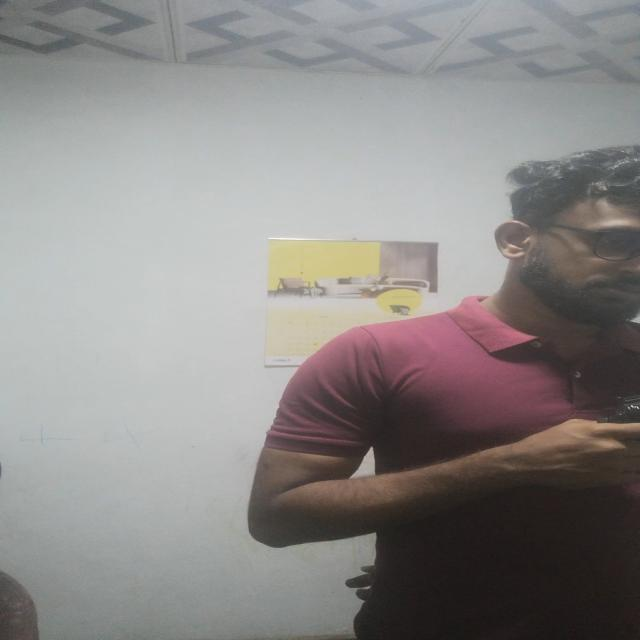Gun_Holder: (521, 378, 640, 468)
Person: (262, 148, 640, 640)
